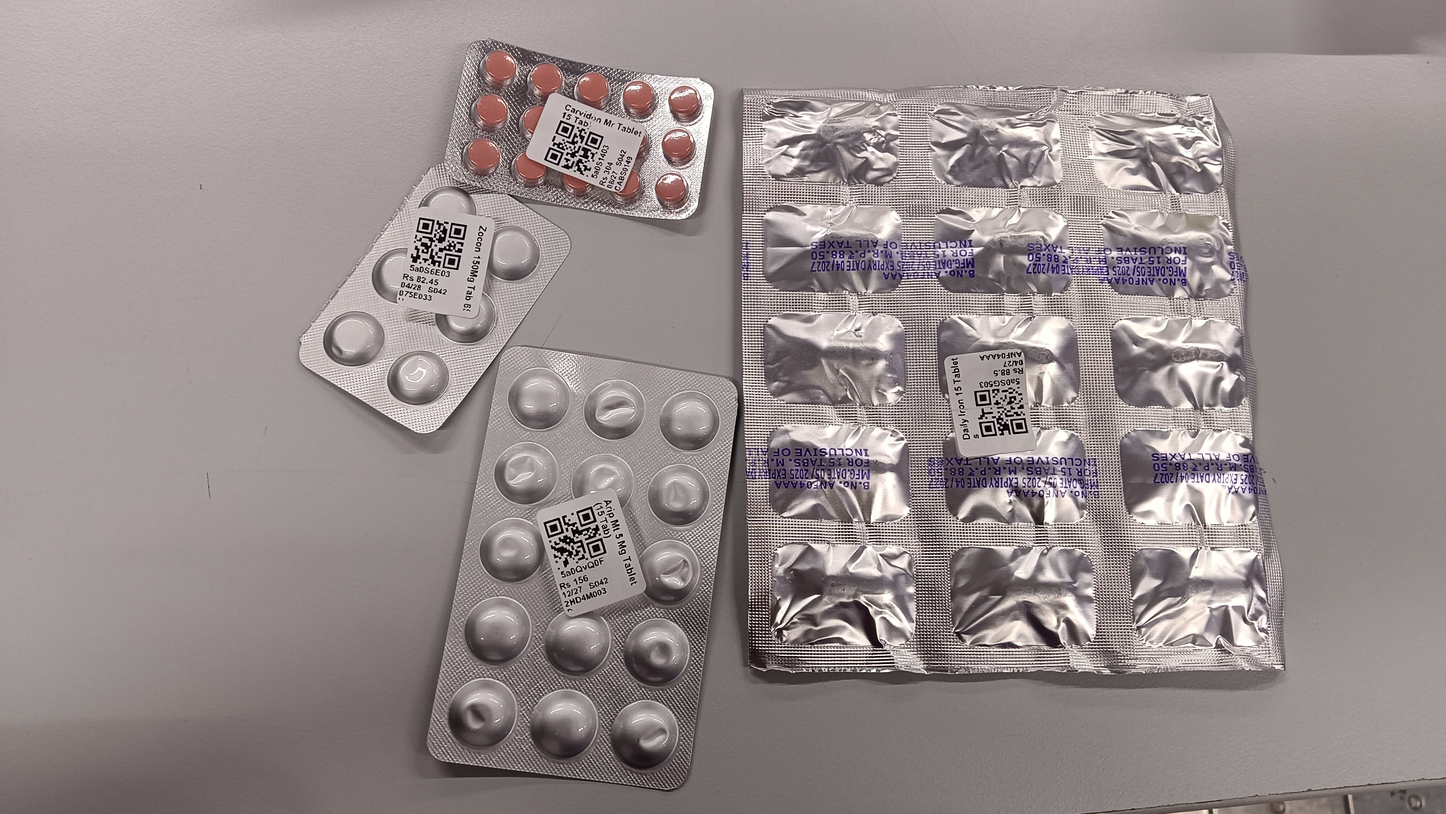qr_code: (543, 506, 606, 570), (409, 217, 467, 270), (974, 386, 1029, 437)
